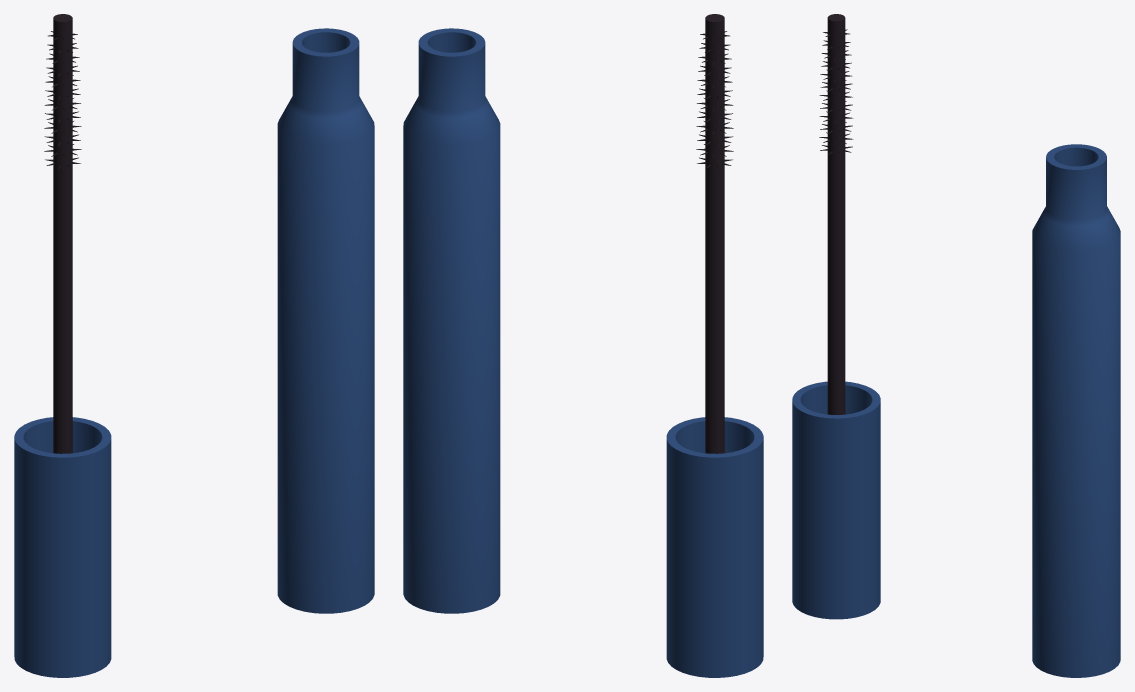
3 views of the same model, side by side, from view 1: azimuth 30°, elevation 25°; view 2: azimuth 150°, elevation 25°; view 3: azimuth 330°, elevation 25° (orthographic). The views are drawn at different scales.
Parts seen in each view (by area): view 1: Open mascara bottle with closed base, Hollow wand cap, Wand stem and brush core; view 2: Open mascara bottle with closed base, Hollow wand cap, Wand stem and brush core; view 3: Open mascara bottle with closed base, Hollow wand cap, Wand stem and brush core.
Boxes of the visible parts, <box> form: Open mascara bottle with closed base: <box>277,28,374,613</box>; Hollow wand cap: <box>14,417,111,677</box>; Wand stem and brush core: <box>53,14,72,453</box>; Open mascara bottle with closed base: <box>403,28,500,613</box>; Hollow wand cap: <box>666,417,763,677</box>; Wand stem and brush core: <box>705,14,724,453</box>; Open mascara bottle with closed base: <box>1032,144,1120,677</box>; Hollow wand cap: <box>792,381,880,619</box>; Wand stem and brush core: <box>827,14,845,414</box>.
Bounding box in the file's own units: 0.066 × 0.1161 × 0.016.
